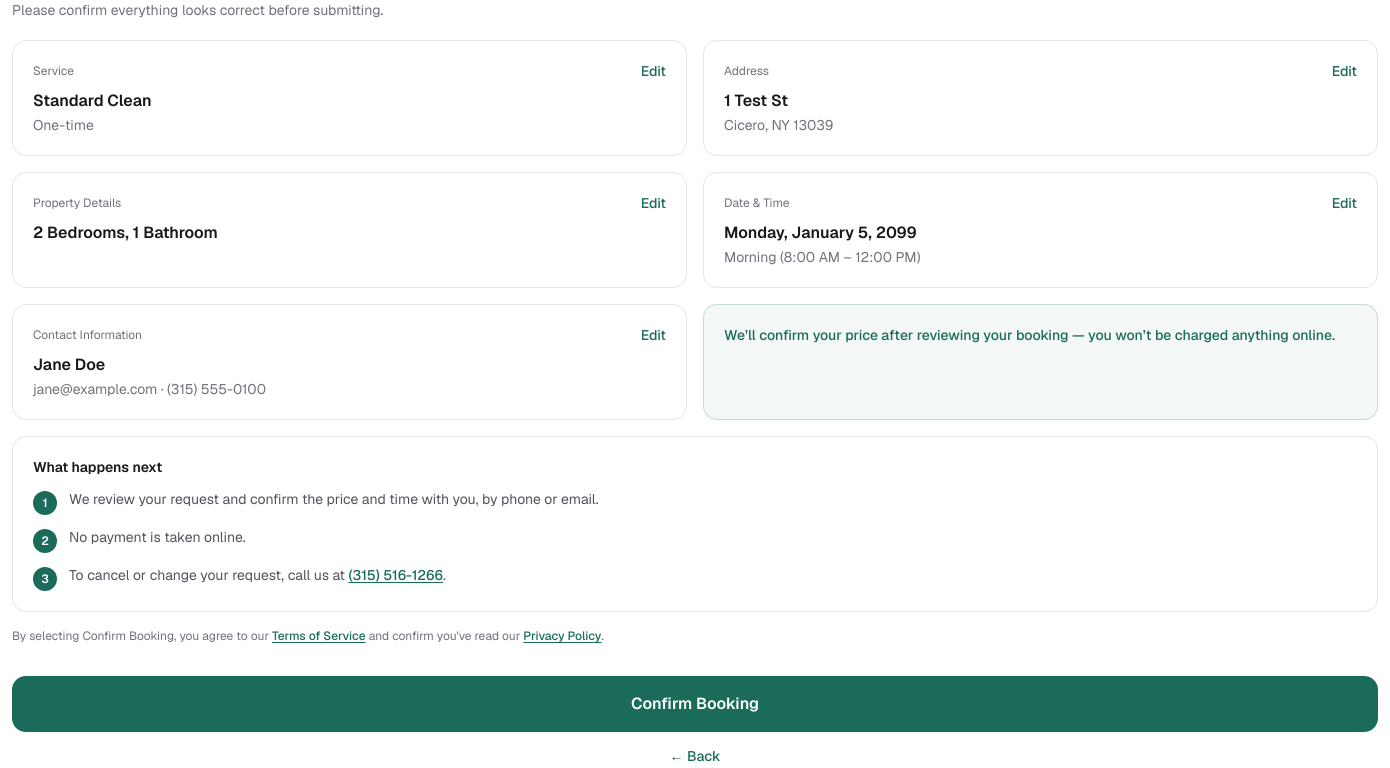
Test: residential review: submit failures › shows an alert with an icon, a Try again button and the business phone
(page scrolled)
Click the button "Confirm Booking". click: [695, 704]
box: [12,676,1378,732]
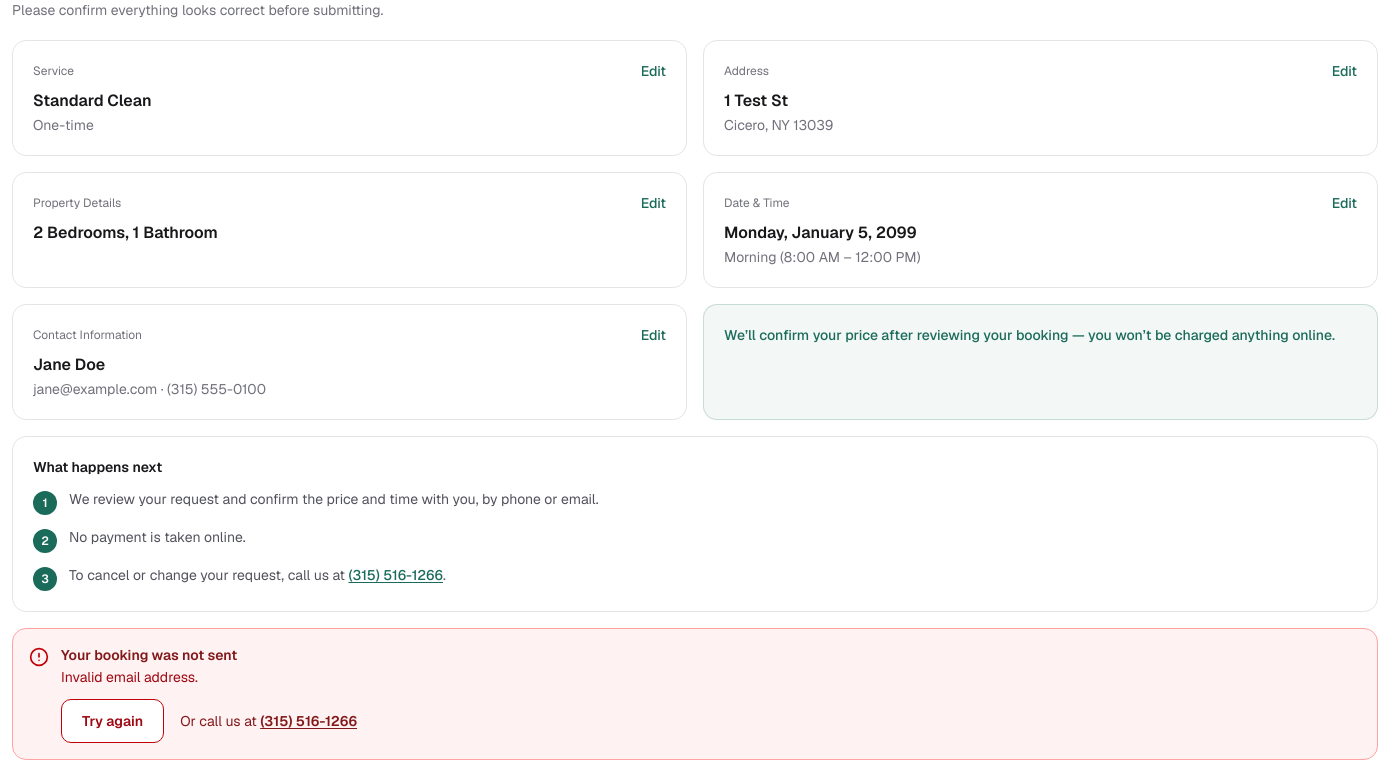
expect the message is shown: met, box [12,628,1378,760]
expect the message shows "Your booking was not sent": met, box [61,646,237,664]
expect the message shows "Invalid email address.": met, box [61,668,198,686]
